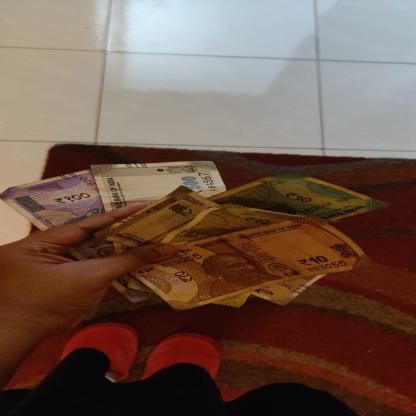New100Front: (0, 169, 160, 303)
New10Front: (129, 214, 374, 312)
New20Front: (128, 204, 342, 308)
New500Front: (93, 185, 328, 307), (90, 161, 226, 295)
New50Front: (206, 170, 394, 221)
